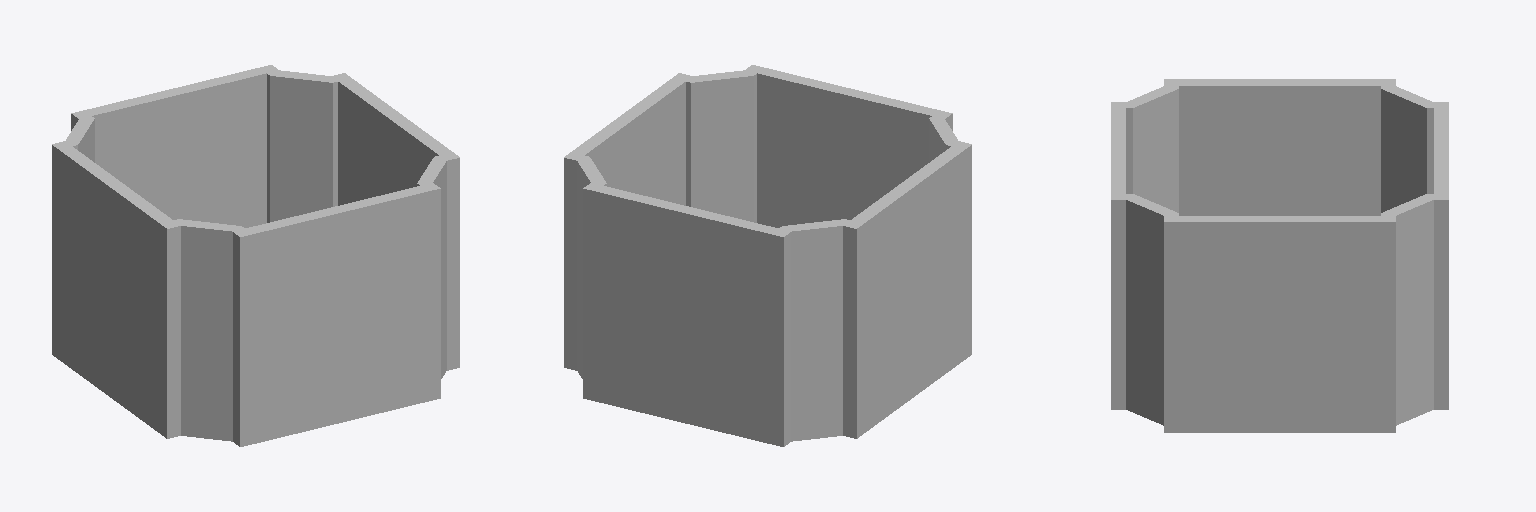
Rendered from Cube 1x1 V5_Tunnel Vertical.obj.
3 renders of one model, left to right at view 1: azimuth 30°, elevation 25°; view 2: azimuth 150°, elevation 25°; view 3: azimuth 270°, elevation 25°, orthographic.
Parts seen in each view (by area): view 1: Solid1:25; view 2: Solid1:25; view 3: Solid1:25.
Boxes of the visible parts, box(x1,y1,x2,y2) form: Solid1:25: box(52, 65, 459, 446); Solid1:25: box(564, 65, 971, 446); Solid1:25: box(1111, 79, 1448, 432).
Size of the model in its own units: 49.65 by 34 by 49.65.